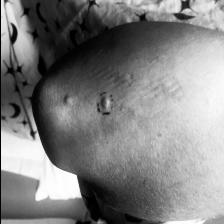Unclassified: (100, 94, 108, 108)
